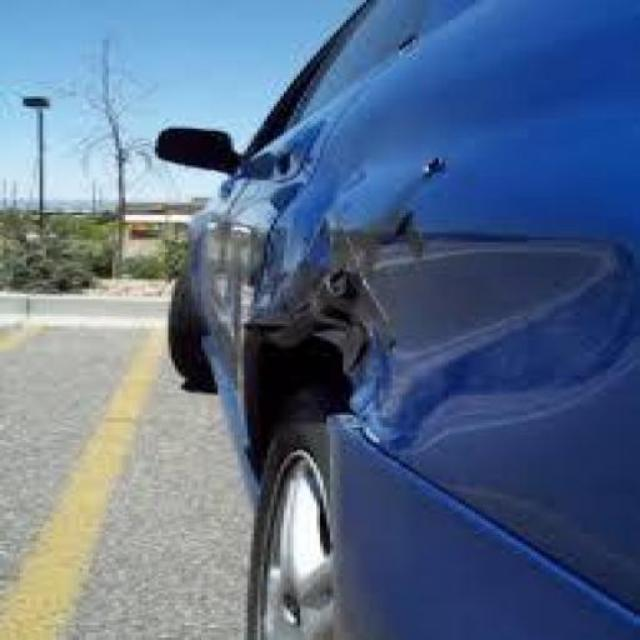dent: (237, 219, 449, 462)
